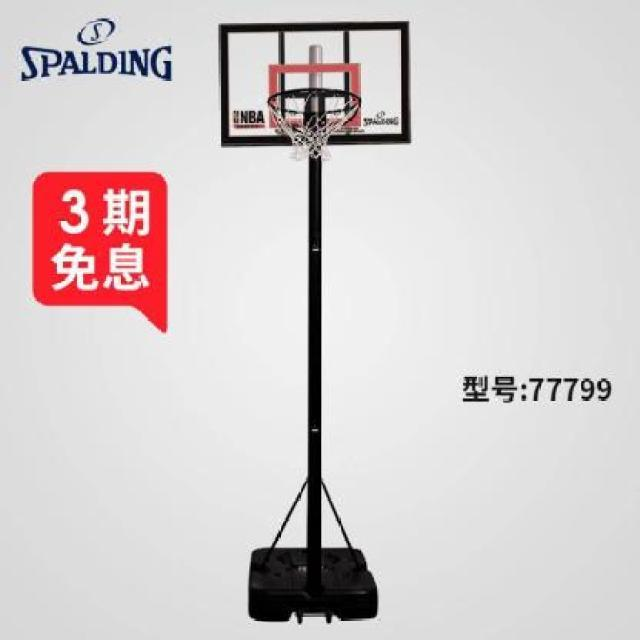rim: (269, 89, 363, 160)
